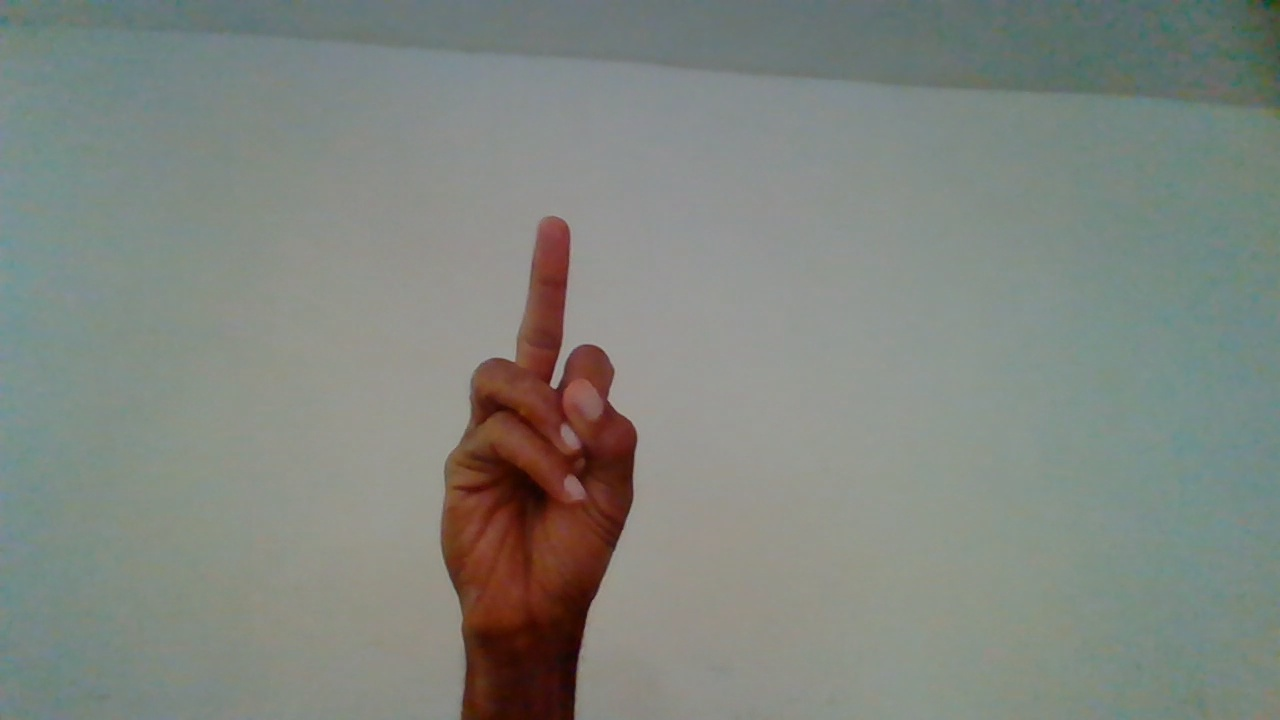he: (438, 214, 647, 705)
